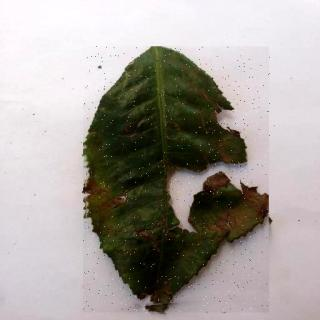Algal Leaf: (85, 48, 272, 315)
